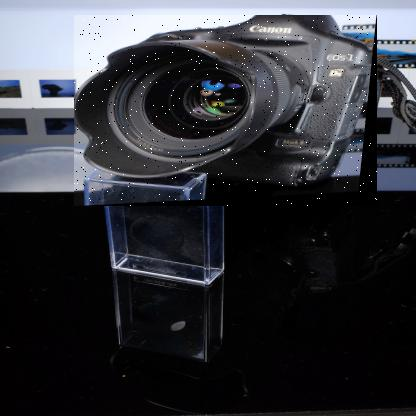Camera: (76, 16, 380, 208)
